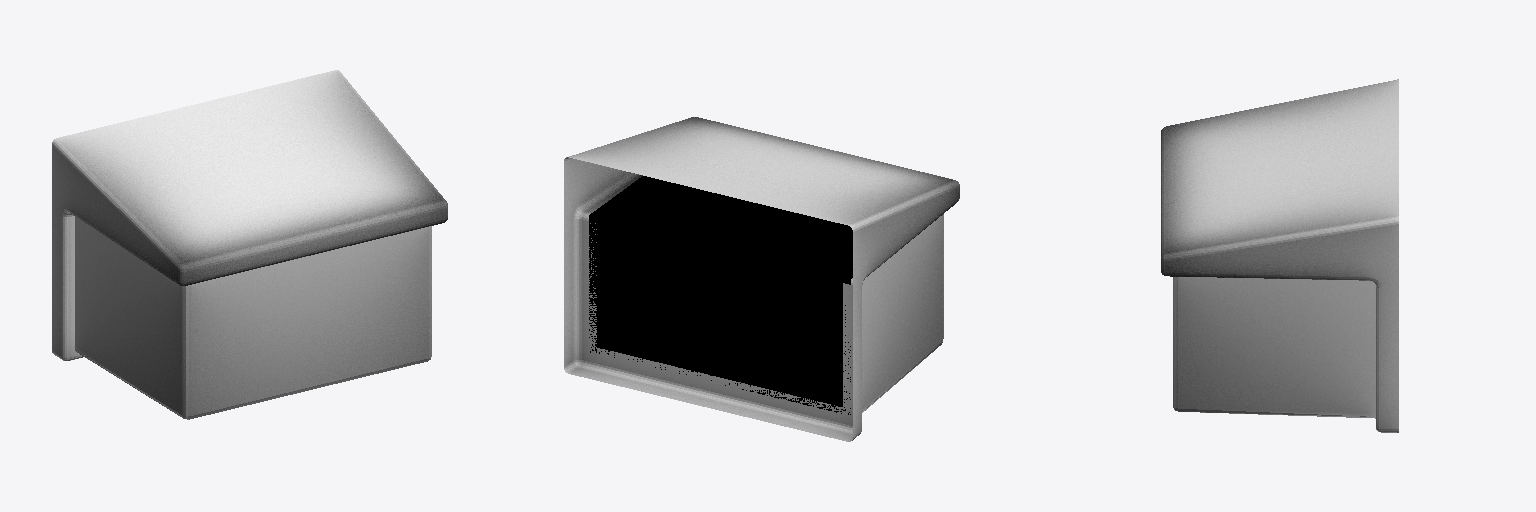
The picture shows the model from 3 angles: view 1: azimuth 30°, elevation 25°; view 2: azimuth 150°, elevation 25°; view 3: azimuth 270°, elevation 25°; orthographic projection.
Visible parts, largest first — view 1: Gateroom_Light_LP; view 2: Gateroom_Light_LP; view 3: Gateroom_Light_LP.
Part boxes in pixels (bbox=[...]): Gateroom_Light_LP: bbox=[52, 70, 447, 419]; Gateroom_Light_LP: bbox=[564, 117, 959, 441]; Gateroom_Light_LP: bbox=[1161, 79, 1398, 432].
Size of the model in its own units: 4.27 by 3.05 by 3.05.
Materials: 1 (1 with a texture image).